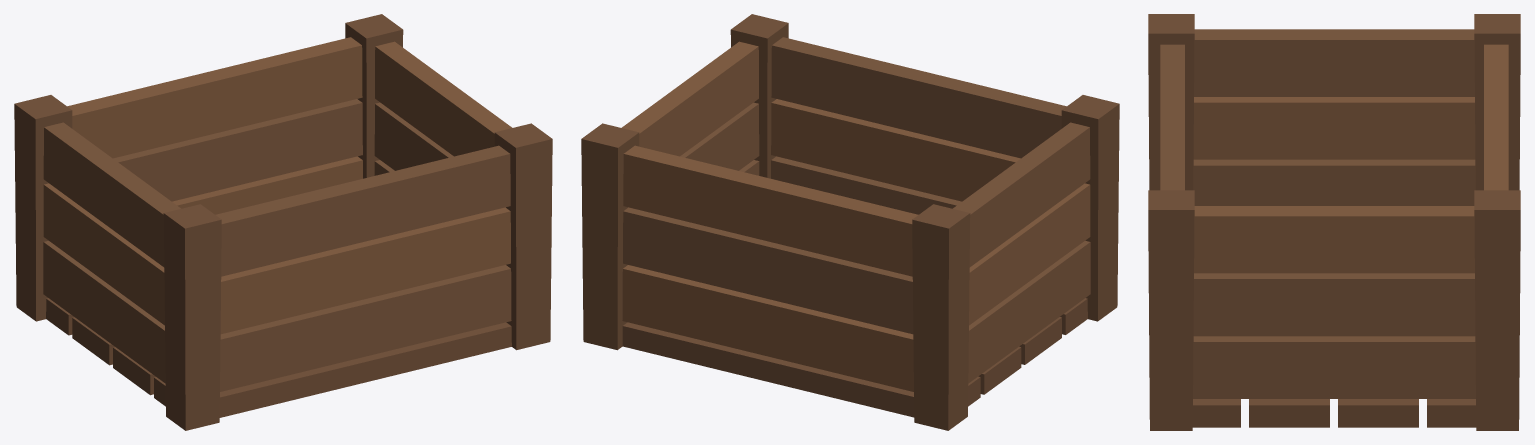
File: Mesh_Props_Box_04.FBX
3 views of the same model, side by side, from view 1: azimuth 30°, elevation 25°; view 2: azimuth 150°, elevation 25°; view 3: azimuth 270°, elevation 25° (orthographic). The views are drawn at different scales.
Visible parts, largest first — view 1: Mesh_Props_Box_04; view 2: Mesh_Props_Box_04; view 3: Mesh_Props_Box_04.
Part boxes in pixels (x1,y1,x2,y2): Mesh_Props_Box_04: [14, 14, 552, 430]; Mesh_Props_Box_04: [581, 14, 1119, 430]; Mesh_Props_Box_04: [1148, 14, 1520, 430].
Bounding box in the file's own units: 26.22 × 13.85 × 21.08.
